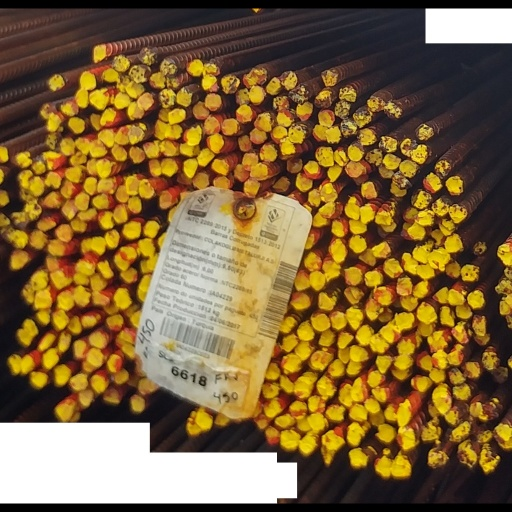dipstick: (450, 323, 472, 347), (349, 382, 370, 407), (243, 59, 266, 81), (379, 323, 401, 346), (448, 427, 471, 448), (81, 235, 105, 255), (114, 247, 135, 269), (310, 352, 332, 373), (397, 432, 417, 455), (417, 303, 437, 326), (321, 259, 340, 282), (346, 308, 364, 332), (375, 428, 395, 449), (391, 409, 411, 430), (50, 271, 72, 290), (221, 66, 240, 88), (478, 461, 500, 480), (10, 250, 30, 270), (290, 79, 310, 99), (394, 312, 414, 332), (427, 333, 447, 353), (114, 289, 133, 310), (307, 418, 328, 437), (457, 453, 476, 474), (493, 428, 512, 449), (478, 405, 497, 426), (287, 118, 305, 140), (373, 287, 395, 305), (374, 463, 392, 485), (427, 457, 449, 475), (88, 84, 108, 103), (122, 219, 141, 239), (422, 170, 442, 189), (329, 241, 348, 261), (293, 344, 313, 363), (281, 357, 301, 376), (294, 382, 313, 402), (280, 435, 299, 455), (349, 454, 368, 474), (421, 427, 441, 446), (390, 169, 411, 187), (415, 353, 433, 374), (29, 229, 48, 248), (412, 187, 431, 206), (443, 233, 462, 252), (437, 215, 456, 234), (129, 57, 149, 75), (160, 154, 178, 174), (195, 416, 213, 436), (352, 104, 372, 122), (302, 157, 322, 175), (278, 134, 296, 154), (310, 315, 330, 333), (317, 380, 335, 400), (299, 441, 317, 461), (321, 437, 341, 455), (432, 399, 452, 417), (449, 201, 467, 221), (54, 368, 71, 389), (316, 142, 333, 163), (356, 327, 373, 348), (318, 200, 340, 216), (126, 74, 144, 93), (127, 96, 145, 115), (184, 121, 202, 140), (97, 208, 115, 227), (69, 378, 88, 396), (204, 87, 222, 106), (314, 84, 333, 102), (383, 95, 402, 113), (294, 169, 312, 188), (254, 109, 272, 128), (348, 234, 367, 252), (344, 287, 363, 305), (296, 324, 314, 343), (396, 339, 414, 358), (289, 405, 307, 424), (430, 353, 449, 371), (79, 64, 96, 84), (73, 287, 90, 307), (411, 140, 428, 160), (290, 293, 310, 310), (467, 291, 484, 311), (438, 308, 455, 328), (89, 136, 107, 154), (10, 229, 28, 247), (30, 375, 48, 393), (334, 95, 352, 113), (276, 104, 294, 122), (319, 181, 337, 199), (372, 239, 390, 257), (304, 252, 322, 270), (343, 266, 361, 284), (384, 259, 402, 277), (329, 313, 347, 331), (328, 363, 346, 381), (367, 374, 385, 392), (461, 264, 479, 282), (31, 270, 48, 289), (35, 291, 52, 310), (207, 129, 224, 148), (264, 70, 281, 89), (295, 96, 312, 115), (399, 156, 418, 173), (280, 335, 297, 354), (307, 400, 326, 417), (348, 409, 367, 426), (326, 409, 345, 426), (447, 371, 466, 388), (480, 357, 499, 374), (498, 243, 512, 266), (139, 176, 155, 196), (58, 291, 74, 311), (242, 148, 258, 168), (344, 158, 364, 174), (349, 348, 369, 364), (451, 388, 471, 404), (179, 137, 200, 152), (273, 419, 295, 433), (140, 40, 157, 58), (159, 83, 176, 101), (114, 85, 131, 103), (128, 121, 145, 139), (99, 124, 116, 142), (106, 315, 123, 333), (91, 379, 108, 397), (202, 68, 219, 86), (250, 159, 268, 176), (318, 104, 335, 122), (331, 218, 349, 235), (375, 358, 392, 376), (336, 334, 354, 351), (262, 384, 279, 402), (433, 288, 450, 306), (429, 369, 446, 387), (462, 365, 480, 382), (60, 95, 79, 111), (101, 102, 117, 121), (144, 218, 160, 237), (91, 290, 110, 306), (57, 222, 73, 241), (87, 351, 103, 370), (129, 399, 145, 418), (211, 156, 230, 172), (309, 272, 325, 291), (396, 277, 412, 296), (446, 260, 462, 279), (455, 304, 474, 320), (176, 81, 191, 101), (52, 312, 67, 332), (43, 351, 58, 371), (393, 357, 413, 372), (371, 390, 391, 405), (295, 270, 309, 291), (472, 317, 486, 338), (45, 189, 62, 206), (139, 237, 156, 254), (97, 261, 114, 278), (25, 200, 42, 217), (203, 113, 220, 130), (416, 119, 433, 136), (380, 131, 397, 148), (408, 221, 425, 238), (413, 280, 430, 297), (264, 404, 281, 421), (410, 379, 427, 396), (448, 289, 465, 306), (443, 414, 460, 431), (192, 96, 208, 114), (159, 136, 177, 152), (75, 133, 91, 151), (76, 259, 94, 275), (89, 334, 107, 350), (30, 173, 46, 191), (222, 113, 238, 131), (259, 141, 277, 157), (271, 121, 287, 139), (313, 119, 329, 137), (358, 124, 376, 140), (382, 150, 400, 166), (271, 173, 289, 189), (360, 178, 376, 196), (125, 173, 140, 192), (113, 202, 128, 221), (104, 228, 119, 247), (281, 64, 296, 83), (347, 217, 366, 232), (113, 48, 129, 65), (160, 52, 176, 69), (186, 52, 202, 69), (137, 87, 153, 104), (169, 102, 185, 119), (59, 179, 75, 196), (236, 99, 252, 116), (249, 123, 265, 140), (55, 410, 72, 426), (243, 176, 259, 193), (367, 91, 384, 107), (346, 140, 362, 157), (365, 270, 381, 287), (318, 293, 334, 310), (116, 183, 131, 201), (60, 133, 75, 151), (97, 156, 112, 174), (120, 267, 138, 282), (23, 321, 38, 339), (234, 160, 249, 178), (344, 199, 359, 217), (358, 203, 373, 221), (75, 83, 89, 102), (62, 197, 76, 216), (107, 357, 121, 376), (416, 264, 435, 278), (197, 143, 210, 163), (8, 357, 21, 377), (73, 342, 86, 362), (150, 66, 166, 82), (144, 137, 160, 153), (193, 170, 209, 186), (105, 392, 121, 408), (15, 148, 31, 164), (321, 64, 337, 80), (325, 122, 341, 138), (366, 144, 382, 160), (375, 207, 391, 223), (413, 246, 429, 262), (264, 366, 280, 382), (346, 435, 362, 451), (363, 402, 379, 418), (447, 352, 463, 368), (165, 119, 182, 134), (114, 123, 129, 140), (111, 141, 128, 156), (46, 255, 61, 272), (49, 238, 64, 255), (236, 82, 251, 99), (250, 80, 265, 97), (339, 81, 356, 96), (435, 157, 450, 174), (333, 145, 348, 162), (49, 67, 63, 85), (128, 193, 142, 211), (75, 190, 89, 208), (47, 108, 61, 126), (38, 216, 56, 230), (184, 155, 197, 174), (69, 317, 82, 336), (69, 112, 84, 128), (129, 142, 144, 158), (66, 164, 82, 179), (90, 275, 106, 290), (59, 334, 71, 354), (186, 426, 201, 442), (286, 155, 302, 170), (403, 205, 418, 221), (346, 364, 362, 379), (319, 334, 334, 350), (93, 38, 107, 55), (101, 62, 118, 76), (89, 108, 103, 125), (83, 174, 97, 191), (238, 131, 252, 148), (306, 187, 320, 204), (148, 155, 161, 173), (159, 188, 171, 207), (46, 168, 60, 184), (81, 315, 97, 329), (79, 207, 97, 219), (93, 192, 108, 206), (35, 313, 50, 327), (98, 176, 114, 189), (434, 197, 447, 213), (158, 103, 172, 117), (115, 373, 129, 387), (498, 302, 512, 316), (71, 217, 86, 230), (41, 97, 53, 113), (214, 174, 231, 185), (73, 273, 88, 285), (87, 155, 98, 171), (166, 70, 179, 83), (33, 157, 45, 171), (47, 129, 57, 144)
